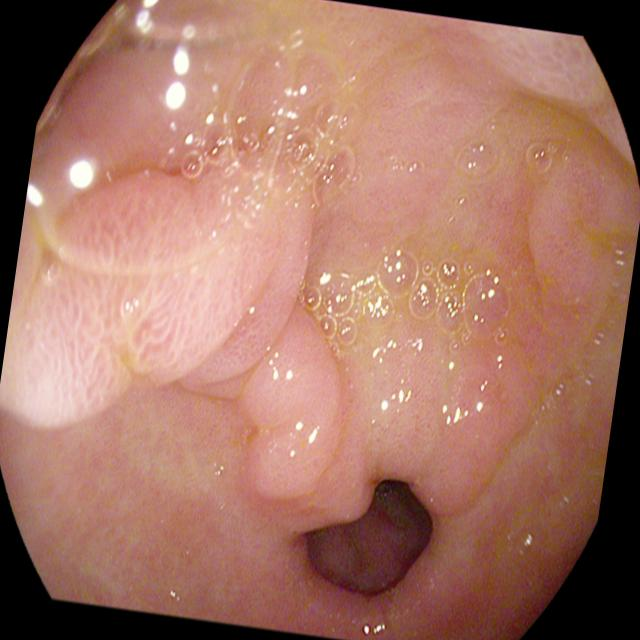normal-pylorus: (0, 0, 640, 555)
